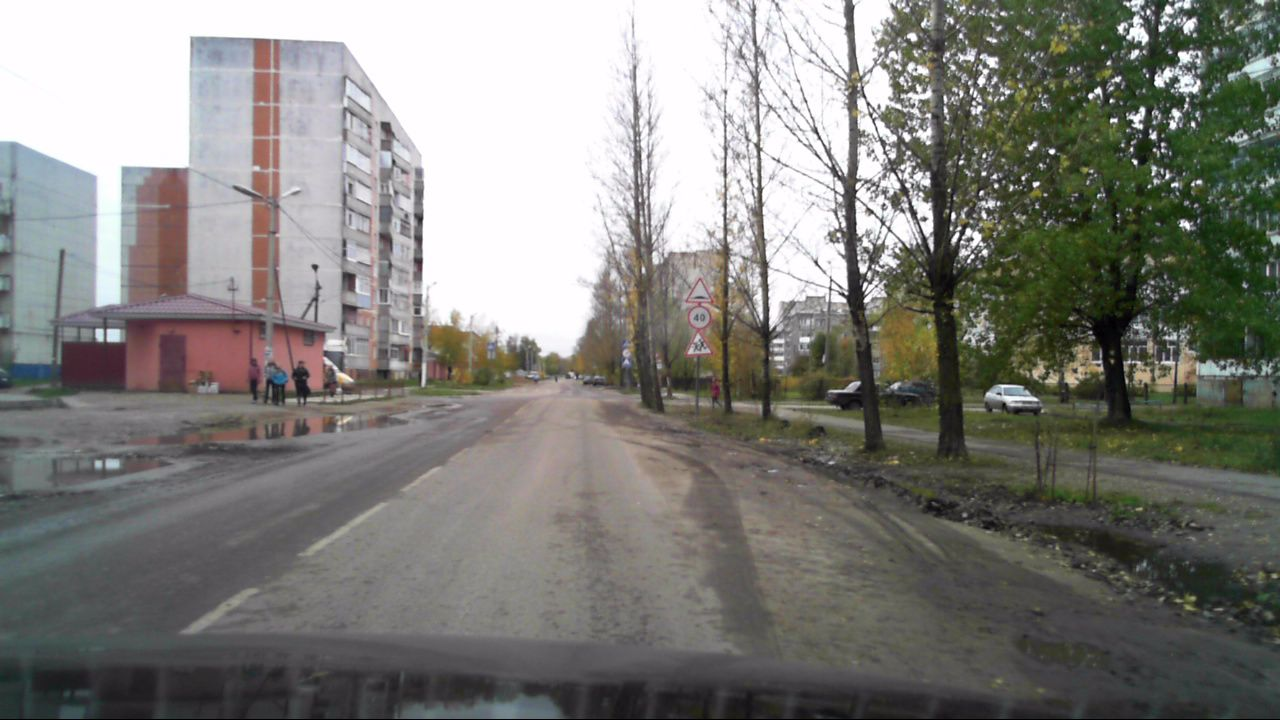speed_warning_40: (687, 306, 711, 329)
